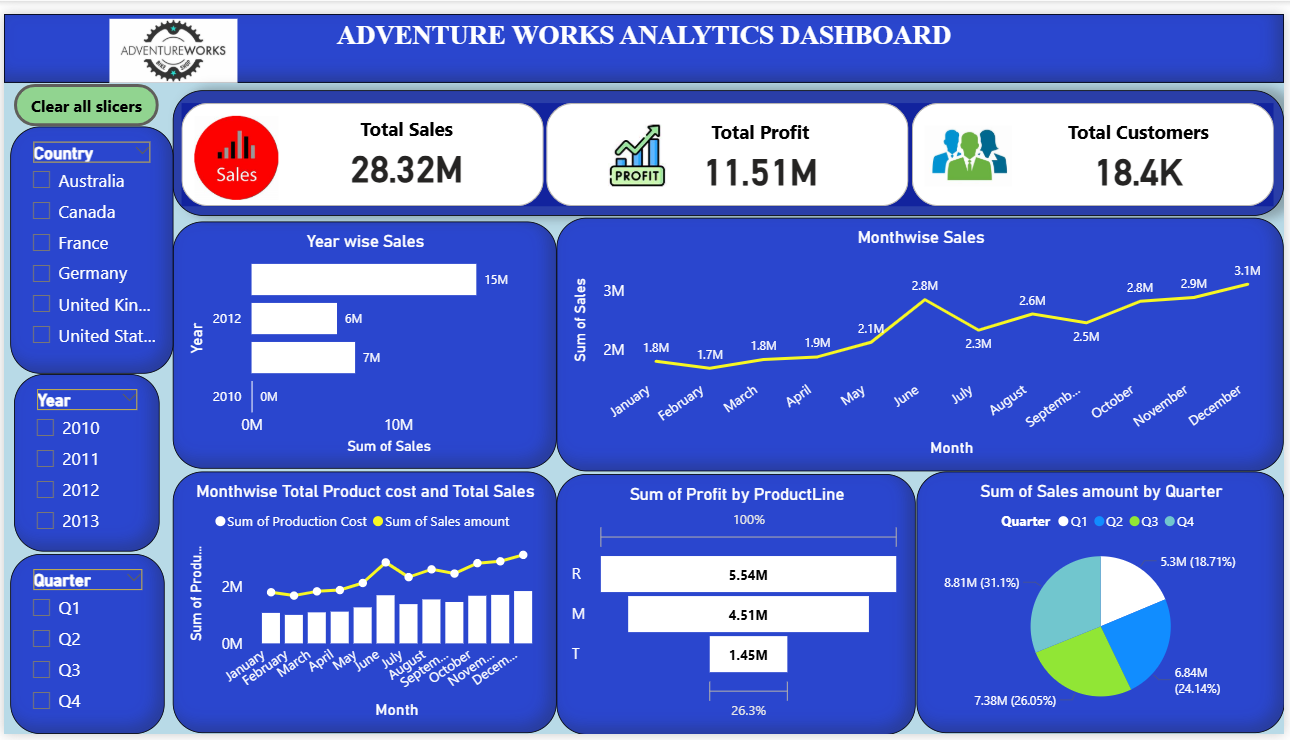

This screenshot's page, from the dashboard's own definition file:
{"tool":"powerbi","page":{"name":"Page 1","canvas":[1280,720],"ordinal":0},"visuals":[{"type":"textbox","box":[0,0,1280,68.8],"z":0},{"type":"barChart","title":"Year wise Sales","fields":{"Category":["SALES.Year"],"Y":["SALES.Sales amount"]},"box":[168.9,207.5,383.6,247.3],"z":1000},{"type":"pieChart","fields":{"Category":["SALES.Quarter"],"Y":["SALES.Sales amount"]},"box":[912.1,457.2,368,261.8],"z":2000},{"type":"lineClusteredColumnComboChart","title":"Monthwise Total Product cost and Total Sales","fields":{"Y":["SALES.Production Cost"],"Y2":["SALES.Sales amount"],"Category":["SALES.OrderDate.Variation.Date Hierarchy.Month"]},"box":[168.9,457.2,383.6,261.8],"z":3000},{"type":"image","box":[45.8,0,246.1,73.6],"z":4000},{"type":"cardVisual","fields":{"Data":["SALES.Sales amount","SALES.Profit","Dimcustomer.FullName"]},"box":[168.9,76,1111.1,125.5],"z":5000},{"type":"lineChart","title":"Monthwise Sales","fields":{"Category":["SALES.OrderDate.Variation.Date Hierarchy.Month"],"Y":["SALES.Sales amount"]},"box":[552.5,203.9,727.5,253.4],"z":6000},{"type":"slicer","fields":{"Values":["DimSalesTerritory.Country"]},"box":[6,112.2,162.9,247.3],"z":7000},{"type":"slicer","fields":{"Values":["SALES.Year"]},"box":[9.7,359.5,146,177.3],"z":8000},{"type":"slicer","fields":{"Values":["SALES.Quarter"]},"box":[6,540.5,154.4,179.8],"z":9000},{"type":"actionButton","box":[9.7,70,144.8,42.2],"z":10000},{"type":"funnel","fields":{"Y":["SALES.Profit"],"Category":["Products.ProductLine"]},"box":[552.5,459.7,359.5,260.6],"z":11000}]}

Visuals, with their boxes in screenshot pixels (x1, y1, x2, y2), scaled from the page's 1280x720 canvas onto the 1290x740 screenshot:
textbox: region(0, 0, 1289, 71)
"Year wise Sales" barChart: region(170, 213, 557, 467)
pieChart - SALES.Quarter x SALES.Sales amount: region(919, 470, 1289, 739)
"Monthwise Total Product cost and Total Sales" lineClusteredColumnComboChart: region(170, 470, 557, 739)
image: region(46, 0, 294, 76)
cardVisual - SALES.Sales amount x SALES.Profit: region(170, 78, 1289, 207)
"Monthwise Sales" lineChart: region(557, 210, 1289, 470)
slicer - DimSalesTerritory.Country: region(6, 115, 170, 369)
slicer - SALES.Year: region(10, 369, 157, 552)
slicer - SALES.Quarter: region(6, 556, 162, 739)
actionButton: region(10, 72, 156, 115)
funnel - SALES.Profit x Products.ProductLine: region(557, 472, 919, 739)
